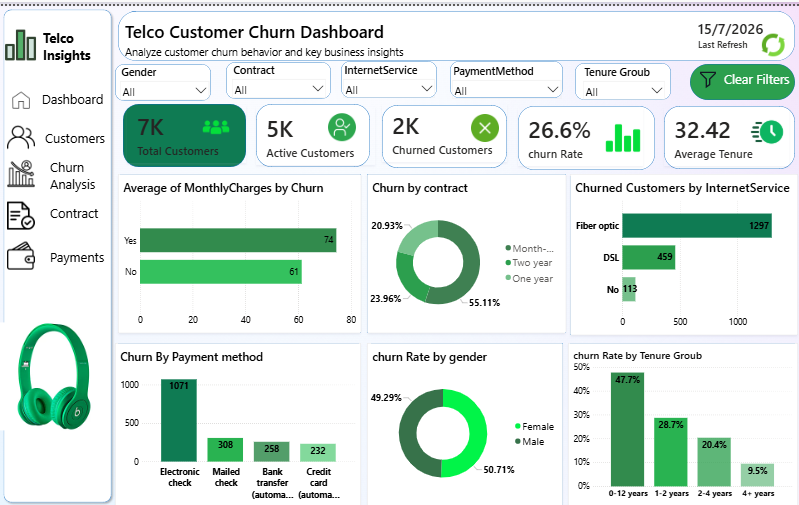

Layout of this report page (visuals, bound fields, positions):
{"tool":"powerbi","page":{"name":"Page 1","canvas":[2000,1250],"ordinal":0},"visuals":[{"type":"shape","box":[295,842.5,602.5,402.5],"z":0},{"type":"shape","box":[927.5,842.5,480,407.5],"z":1000},{"type":"shape","box":[1425,842.5,562.5,407.5],"z":2000},{"type":"shape","box":[1425,425,562.5,397.5],"z":3000},{"type":"shape","box":[917.5,420,497.5,397.5],"z":4000},{"type":"shape","box":[300,420,602.5,397.5],"z":5000},{"type":"shape","box":[1437.5,142.5,240,92.5],"z":6000},{"type":"shape","box":[1125,137.5,282.5,92.5],"z":7000},{"type":"shape","box":[852.5,137.5,240,92.5],"z":8000},{"type":"shape","box":[565,140,262.5,92.5],"z":9000},{"type":"shape","box":[287.5,145,240,92.5],"z":10000},{"type":"shape","box":[1660,250,327.5,157.5],"z":11000},{"type":"shape","box":[1295,250,342.5,160],"z":12000},{"type":"shape","box":[955,247.5,312.5,157.5],"z":13000},{"type":"shape","box":[640,245,285,157.5],"z":14000},{"type":"shape","box":[307.5,245,307.5,157.5],"z":15000},{"type":"shape","box":[295,12.5,1692.5,125],"z":16000},{"type":"cardVisual","fields":{"Data":["telco_churn wa_fnusec_telco_customer_churn.total Customers"]},"box":[317.5,247.5,297.5,145],"z":17000},{"type":"donutChart","title":"Churn by  contract","fields":{"Category":["telco_churn wa_fnusec_telco_customer_churn.Contract"],"Y":["CountNonNull(telco_churn wa_fnusec_telco_customer_churn.Churn)"]},"box":[917.5,420,497.5,397.5],"z":18000},{"type":"barChart","fields":{"Category":["telco_churn wa_fnusec_telco_customer_churn.InternetService"],"Y":["telco_churn wa_fnusec_telco_customer_churn.Churned Customers"]},"box":[1425,420,570,402.5],"z":19000},{"type":"columnChart","title":"Churn By Payment method","fields":{"Category":["telco_churn wa_fnusec_telco_customer_churn.PaymentMethod"],"Y":["telco_churn wa_fnusec_telco_customer_churn.Churned Customers"]},"box":[287.5,842.5,615,407.5],"z":20000},{"type":"textbox","box":[307.5,17.5,785,120],"z":21000},{"type":"slicer","fields":{"Values":["telco_churn wa_fnusec_telco_customer_churn.gender"]},"box":[295,145,232.5,100],"z":22000},{"type":"slicer","fields":{"Values":["telco_churn wa_fnusec_telco_customer_churn.Contract"]},"box":[575,140,245,97.5],"z":23000},{"type":"slicer","fields":{"Values":["telco_churn wa_fnusec_telco_customer_churn.InternetService"]},"box":[852.5,140,240,95],"z":24000},{"type":"donutChart","fields":{"Category":["telco_churn wa_fnusec_telco_customer_churn.gender"],"Y":["telco_churn wa_fnusec_telco_customer_churn.churn Rate"]},"box":[917.5,842.5,490,407.5],"z":25000},{"type":"columnChart","fields":{"Category":["telco_churn wa_fnusec_telco_customer_churn.Tenure Groub"],"Y":["telco_churn wa_fnusec_telco_customer_churn.churn Rate"]},"box":[1420,842.5,575,407.5],"z":26000},{"type":"shape","box":[0,0,287.5,1250],"z":27000},{"type":"textbox","box":[102.5,52.5,132.5,110],"z":28000},{"type":"image","box":[0,50,102.5,95],"z":29000},{"type":"textbox","box":[52.5,212.5,217.5,70],"z":30000},{"type":"image","box":[17.5,187.5,70,95],"z":31000},{"type":"image","box":[17.5,280,70,95],"z":32000},{"type":"textbox","box":[87.5,302.5,200,72.5],"z":33000},{"type":"image","box":[17.5,375,70,87.5],"z":34000},{"type":"textbox","box":[120,375,132.5,115],"z":35000},{"type":"image","box":[17.5,480,70,87.5],"z":36000},{"type":"textbox","box":[120,490,132.5,70],"z":37000},{"type":"image","box":[17.5,575,70,97.5],"z":38000},{"type":"textbox","box":[120,600,167.5,57.5],"z":39000},{"type":"image","box":[0,672.5,270,572.5],"z":40000},{"type":"cardVisual","fields":{"Data":["telco_churn wa_fnusec_telco_customer_churn.Last Refresh"]},"box":[1720,5,275,132.5],"z":41000},{"type":"slicer","fields":{"Values":["telco_churn wa_fnusec_telco_customer_churn.Tenure Groub"]},"box":[1452.5,145,215,92.5],"z":42000},{"type":"slicer","fields":{"Values":["telco_churn wa_fnusec_telco_customer_churn.PaymentMethod"]},"box":[1125,142.5,282.5,95],"z":43000},{"type":"shape","box":[1725,145,262.5,90],"z":44000},{"type":"textbox","box":[1805,162.5,182.5,87.5],"z":45000},{"type":"image","box":[1735,135,70,97.5],"z":46000},{"type":"cardVisual","fields":{"Data":["telco_churn wa_fnusec_telco_customer_churn.Active Customers"]},"box":[640,252.5,297.5,145],"z":47000},{"type":"cardVisual","fields":{"Data":["telco_churn wa_fnusec_telco_customer_churn.Churned Customers"]},"box":[955,245,312.5,145],"z":48000},{"type":"cardVisual","fields":{"Data":["telco_churn wa_fnusec_telco_customer_churn.churn Rate"]},"box":[1295,255,312.5,145],"z":49000},{"type":"cardVisual","fields":{"Data":["Avg(telco_churn wa_fnusec_telco_customer_churn.tenure)"]},"box":[1660,255,312.5,145],"z":50000},{"type":"barChart","fields":{"Category":["telco_churn wa_fnusec_telco_customer_churn.Churn"],"Y":["Avg(telco_churn wa_fnusec_telco_customer_churn.MonthlyCharges)"]},"box":[295,420,607.5,397.5],"z":51000},{"type":"image","box":[505,255,70,95],"z":52000},{"type":"image","box":[820,255,70,95],"z":53000},{"type":"image","box":[1157.5,270,110,70],"z":54000},{"type":"image","box":[1502.5,285,110,90],"z":55000},{"type":"image","box":[1862.5,270,110,90],"z":56000},{"type":"image","box":[1877.5,65,110,65],"z":57000}]}

Visuals, with their boxes on the page's 2000x1250 design canvas (x1, y1, x2, y2). These are canvas units, not pixel positions in the 799x505 screenshot, which may show the page scaled, cropped or inside an application window:
shape: crop(295, 842, 898, 1245)
shape: crop(928, 842, 1408, 1250)
shape: crop(1425, 842, 1988, 1250)
shape: crop(1425, 425, 1988, 822)
shape: crop(918, 420, 1415, 818)
shape: crop(300, 420, 902, 818)
shape: crop(1438, 142, 1678, 235)
shape: crop(1125, 138, 1408, 230)
shape: crop(852, 138, 1092, 230)
shape: crop(565, 140, 828, 232)
shape: crop(288, 145, 528, 238)
shape: crop(1660, 250, 1988, 408)
shape: crop(1295, 250, 1638, 410)
shape: crop(955, 248, 1268, 405)
shape: crop(640, 245, 925, 402)
shape: crop(308, 245, 615, 402)
shape: crop(295, 12, 1988, 138)
cardVisual - telco_churn wa_fnusec_telco_customer_churn.total Customers: crop(318, 248, 615, 392)
"Churn by  contract" donutChart: crop(918, 420, 1415, 818)
barChart - telco_churn wa_fnusec_telco_customer_churn.InternetService x telco_churn wa_fnusec_telco_customer_churn.Churned Customers: crop(1425, 420, 1995, 822)
"Churn By Payment method" columnChart: crop(288, 842, 902, 1250)
textbox: crop(308, 18, 1092, 138)
slicer - telco_churn wa_fnusec_telco_customer_churn.gender: crop(295, 145, 528, 245)
slicer - telco_churn wa_fnusec_telco_customer_churn.Contract: crop(575, 140, 820, 238)
slicer - telco_churn wa_fnusec_telco_customer_churn.InternetService: crop(852, 140, 1092, 235)
donutChart - telco_churn wa_fnusec_telco_customer_churn.gender x telco_churn wa_fnusec_telco_customer_churn.churn Rate: crop(918, 842, 1408, 1250)
columnChart - telco_churn wa_fnusec_telco_customer_churn.Tenure Groub x telco_churn wa_fnusec_telco_customer_churn.churn Rate: crop(1420, 842, 1995, 1250)
shape: crop(0, 0, 288, 1250)
textbox: crop(102, 52, 235, 162)
image: crop(0, 50, 102, 145)
textbox: crop(52, 212, 270, 282)
image: crop(18, 188, 88, 282)
image: crop(18, 280, 88, 375)
textbox: crop(88, 302, 288, 375)
image: crop(18, 375, 88, 462)
textbox: crop(120, 375, 252, 490)
image: crop(18, 480, 88, 568)
textbox: crop(120, 490, 252, 560)
image: crop(18, 575, 88, 672)
textbox: crop(120, 600, 288, 658)
image: crop(0, 672, 270, 1245)
cardVisual - telco_churn wa_fnusec_telco_customer_churn.Last Refresh: crop(1720, 5, 1995, 138)
slicer - telco_churn wa_fnusec_telco_customer_churn.Tenure Groub: crop(1452, 145, 1668, 238)
slicer - telco_churn wa_fnusec_telco_customer_churn.PaymentMethod: crop(1125, 142, 1408, 238)
shape: crop(1725, 145, 1988, 235)
textbox: crop(1805, 162, 1988, 250)
image: crop(1735, 135, 1805, 232)
cardVisual - telco_churn wa_fnusec_telco_customer_churn.Active Customers: crop(640, 252, 938, 398)
cardVisual - telco_churn wa_fnusec_telco_customer_churn.Churned Customers: crop(955, 245, 1268, 390)
cardVisual - telco_churn wa_fnusec_telco_customer_churn.churn Rate: crop(1295, 255, 1608, 400)
cardVisual - Avg(telco_churn wa_fnusec_telco_customer_churn.tenure): crop(1660, 255, 1972, 400)
barChart - telco_churn wa_fnusec_telco_customer_churn.Churn x Avg(telco_churn wa_fnusec_telco_customer_churn.MonthlyCharges): crop(295, 420, 902, 818)
image: crop(505, 255, 575, 350)
image: crop(820, 255, 890, 350)
image: crop(1158, 270, 1268, 340)
image: crop(1502, 285, 1612, 375)
image: crop(1862, 270, 1972, 360)
image: crop(1878, 65, 1988, 130)
